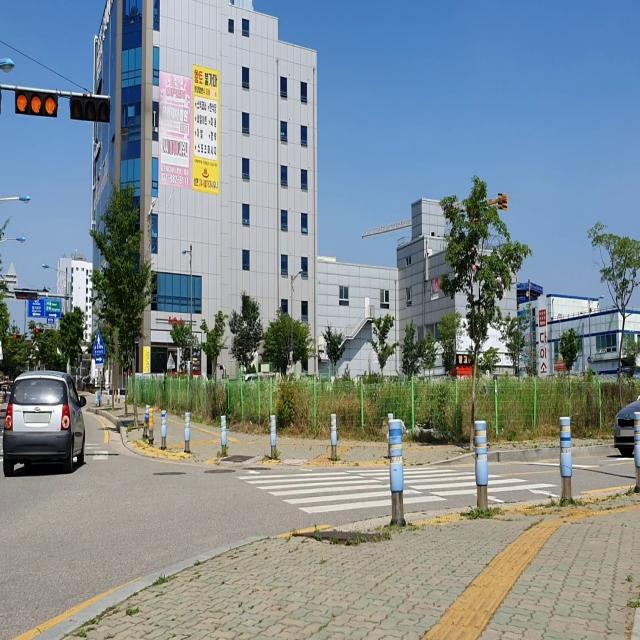횡단보도: (234, 466, 561, 515)
